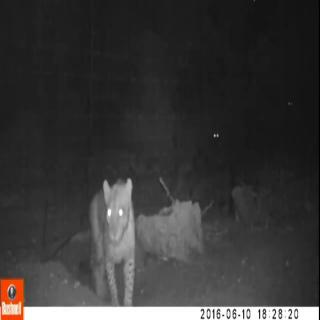Leopard: (80, 172, 154, 296)
